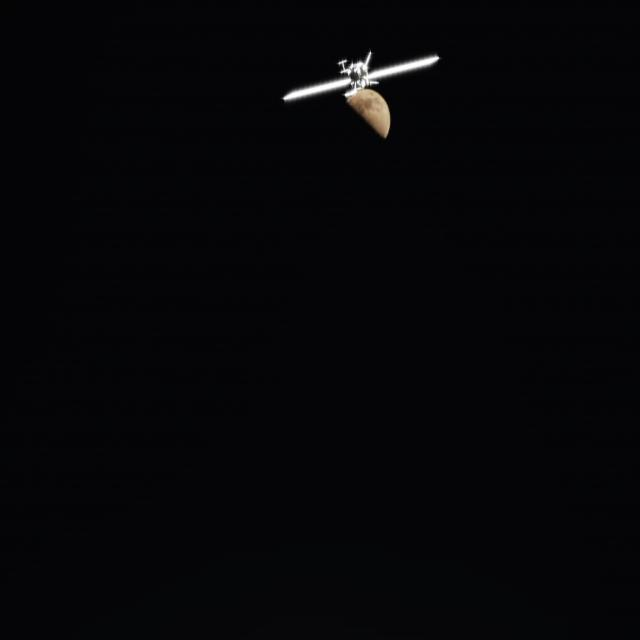satellite: (281, 47, 452, 99)
